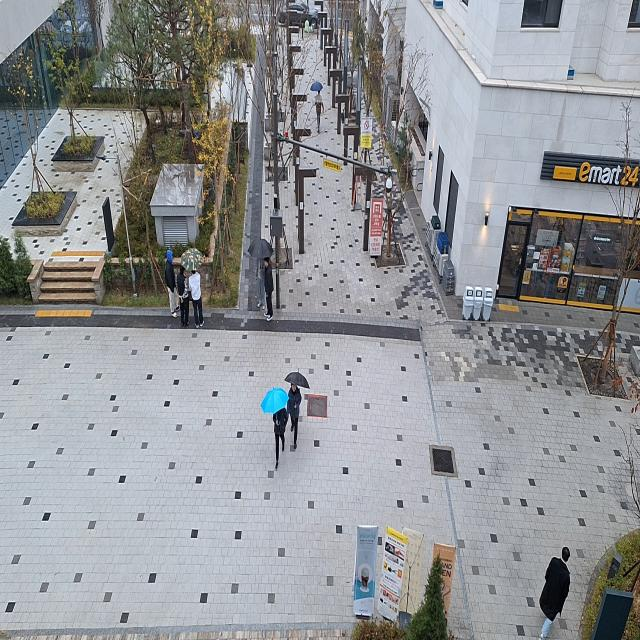Car: (271, 0, 325, 28)
